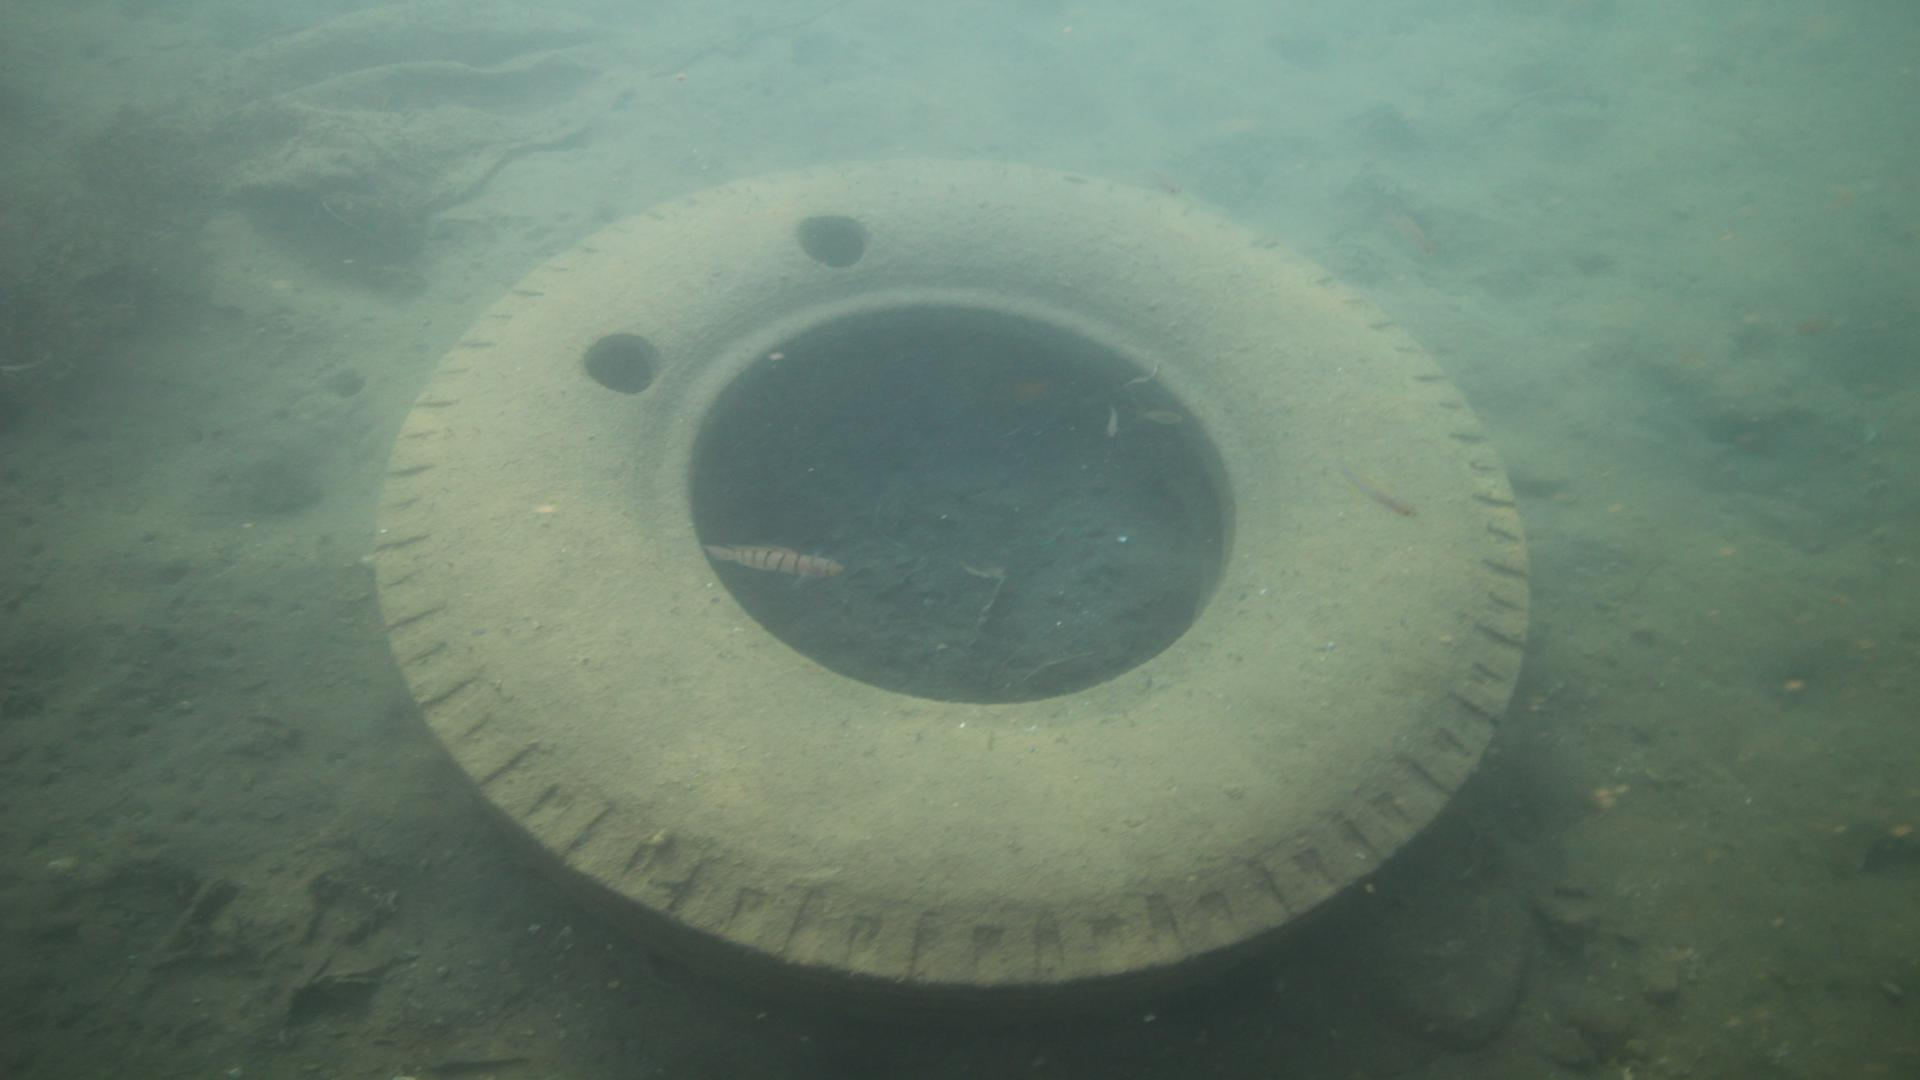tire: (368, 152, 1534, 1042)
